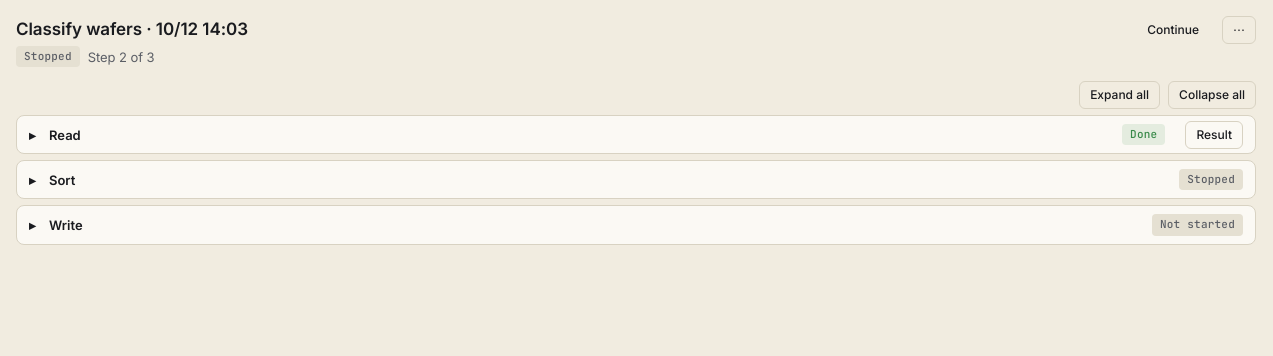
Test: review round 1 › a stopped step says Stopped and is not held open; the one before it is Done (plan-one-running-phase D3)
The image size is (1273, 356).
Expected: the list item with test id "execution-step" shows "Done", left=17, top=116, right=1177, bottom=153
Click the button "▸ Sort Stopped" at (1211, 180), box left=17, top=161, right=1255, bottom=198
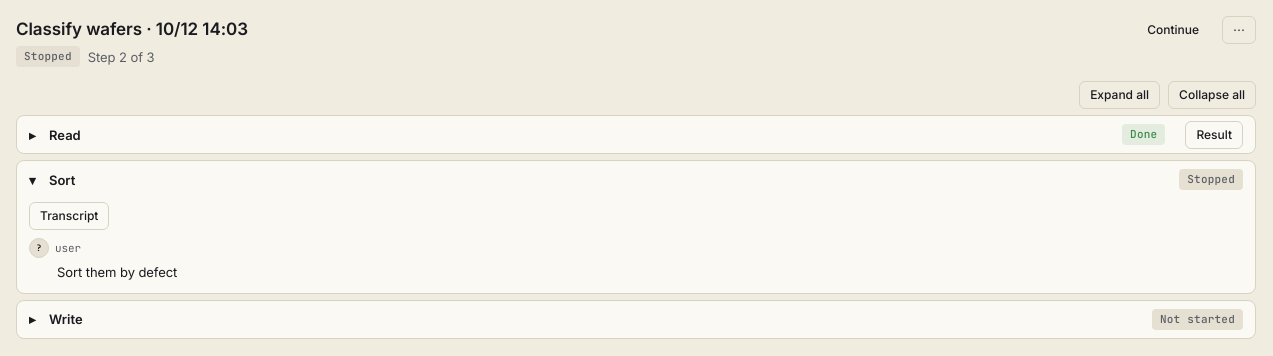
Expected: the text "Step 2 of 3" is shown, left=88, top=47, right=155, bottom=67
Result: the button "▾ Sort Stopped" is expanded at left=17, top=161, right=1255, bottom=198
